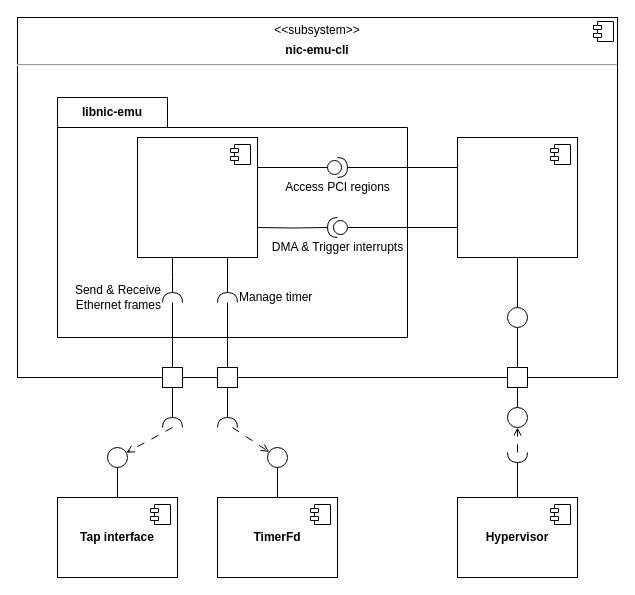
Image size: 635x595. Some labels were removed from this diagram. The centre of each missing label's shape, as x and y in pixels:
Intel 82540EM Behavioral model: (x=197, y=197)
libvfio-user: (x=517, y=197)
vfio-user UNIX socket: (x=517, y=417)
